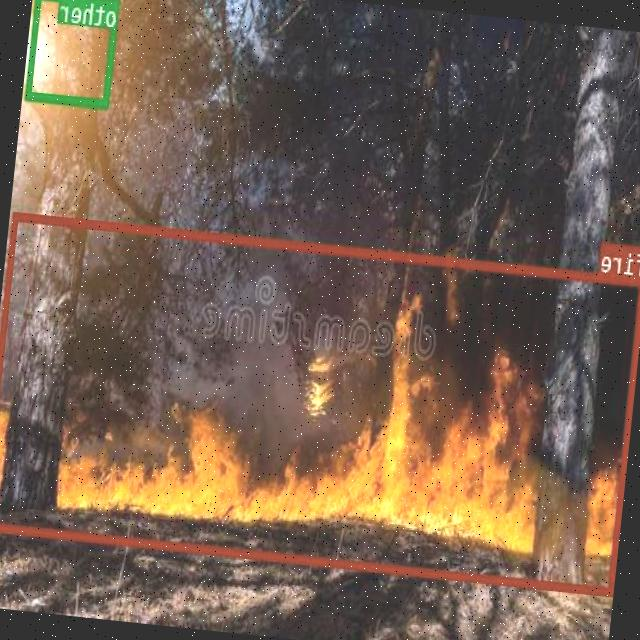fire: (0, 209, 640, 595)
